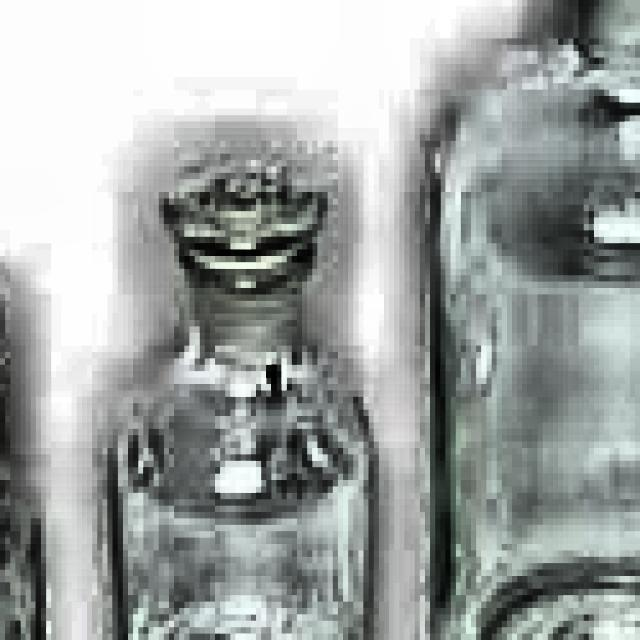glass: (423, 0, 640, 640), (105, 148, 373, 640)
